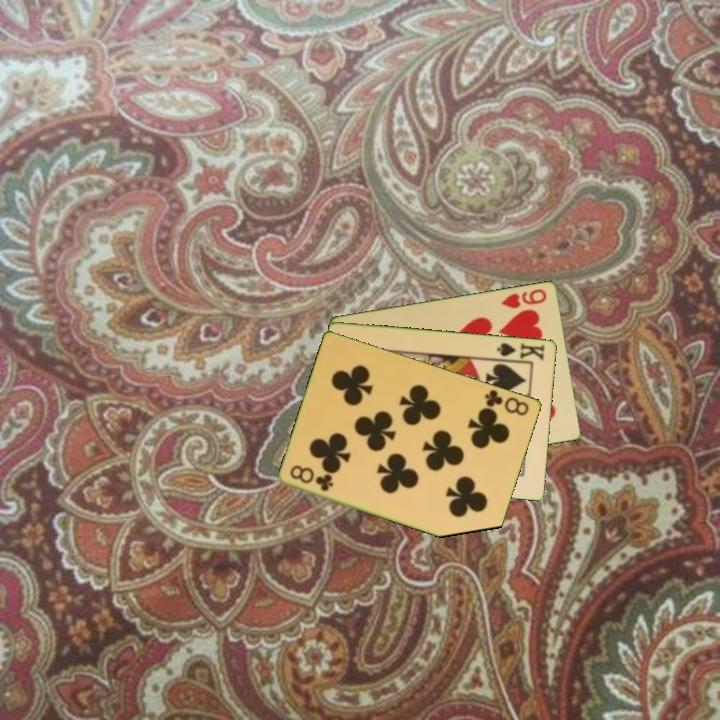8c: (482, 386, 532, 419), (287, 461, 337, 494)
9h: (498, 285, 550, 311)
Ks: (493, 339, 547, 364)
